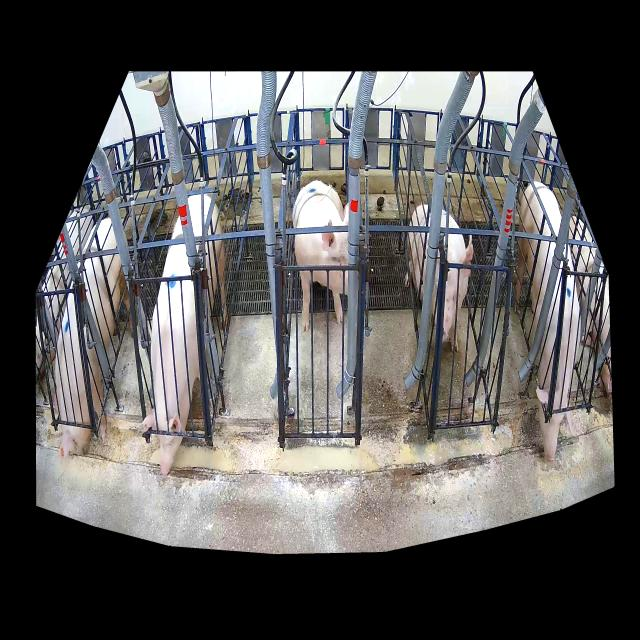pig: (142, 194, 226, 474), (55, 218, 133, 457), (515, 182, 580, 461), (407, 204, 473, 352), (292, 181, 348, 332)
